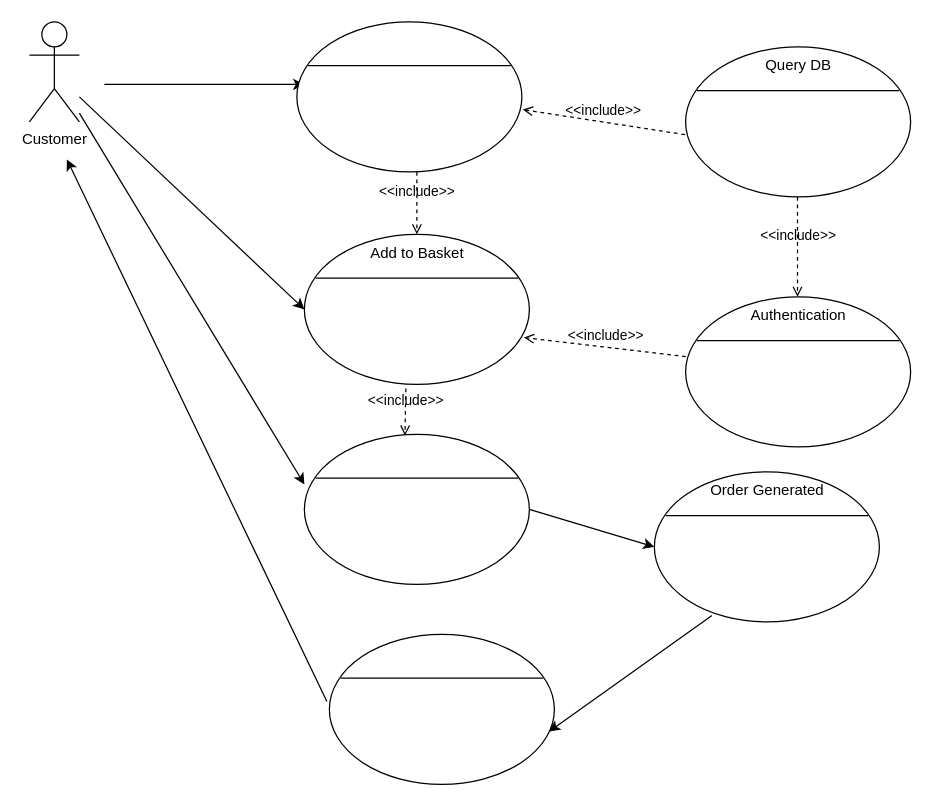
Image size: 933x806. Some labels were removed from this diagram. Here are the shapes that lost their labels. From the top down, the centre of each, then its label:
the point at 409,96: Browse Products
the point at 416,508: Checkout
the point at 441,708: Delivery
